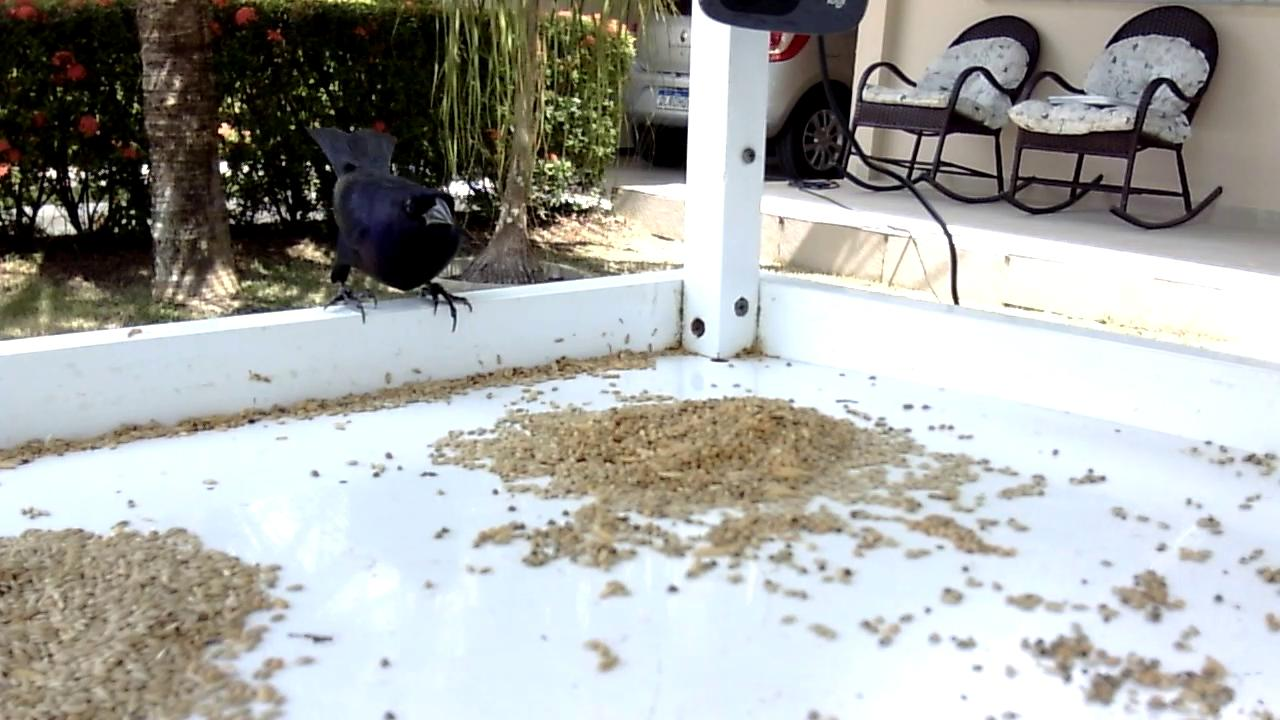chupim: (305, 126, 475, 336)
